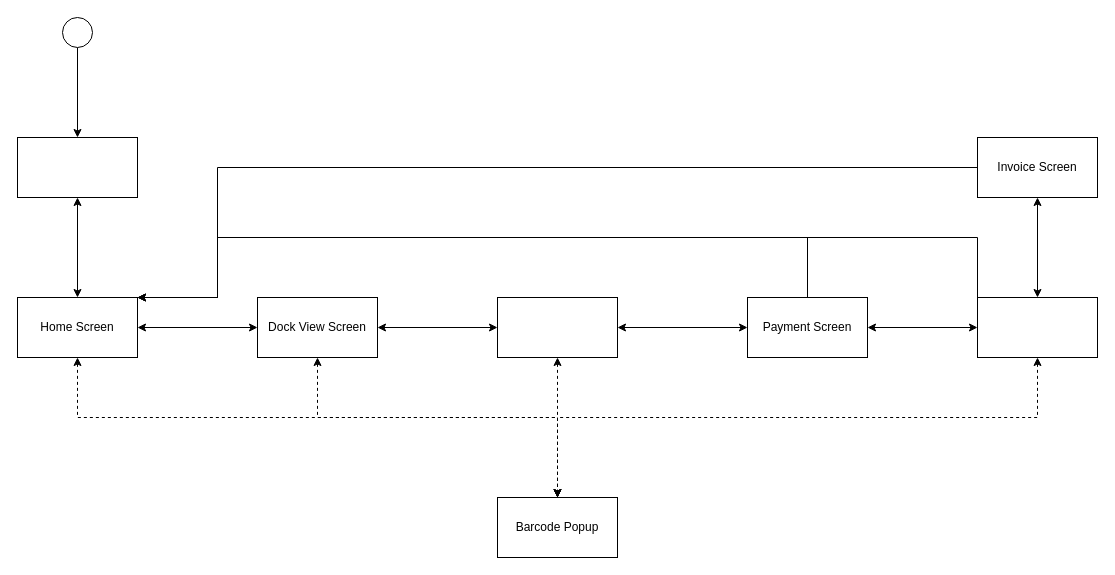
Some shapes in this 1115 by 575 pixel diagram are drawn without their labels. The shapes that lost their labels are listed below. From the top down, each one's box as (x1, y1, x2, y2) in pixels, then its label:
(16, 136, 138, 198): Splash Screen
(496, 296, 618, 358): Bike View Screen
(976, 296, 1098, 358): Renting Session
